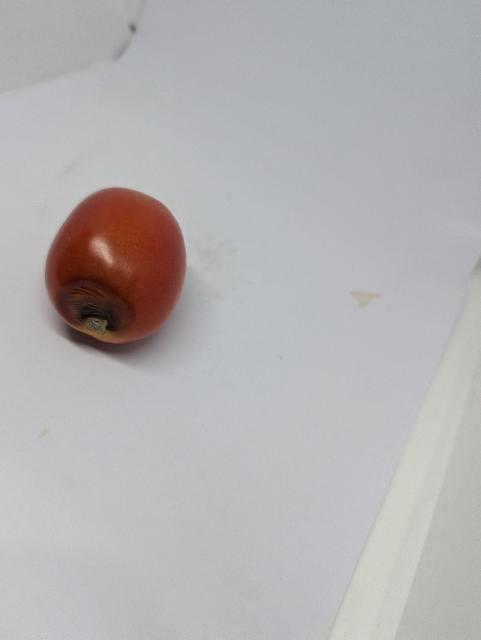defect: (42, 184, 191, 346)
